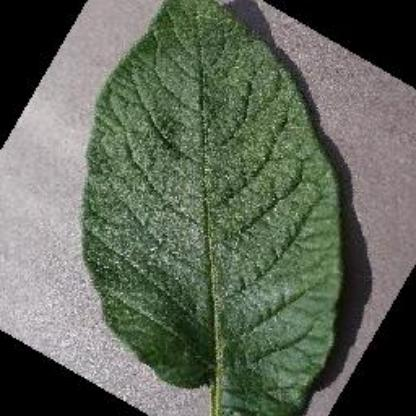Healthy-plant: (80, 0, 346, 416)
